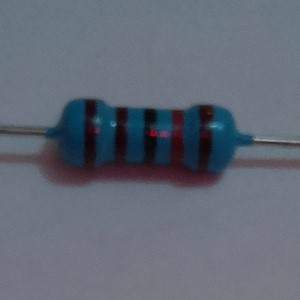black_band: (140, 107, 159, 168)
brown_band: (195, 103, 216, 175), (82, 98, 99, 169), (111, 106, 130, 168)
red_band: (169, 108, 185, 169)
